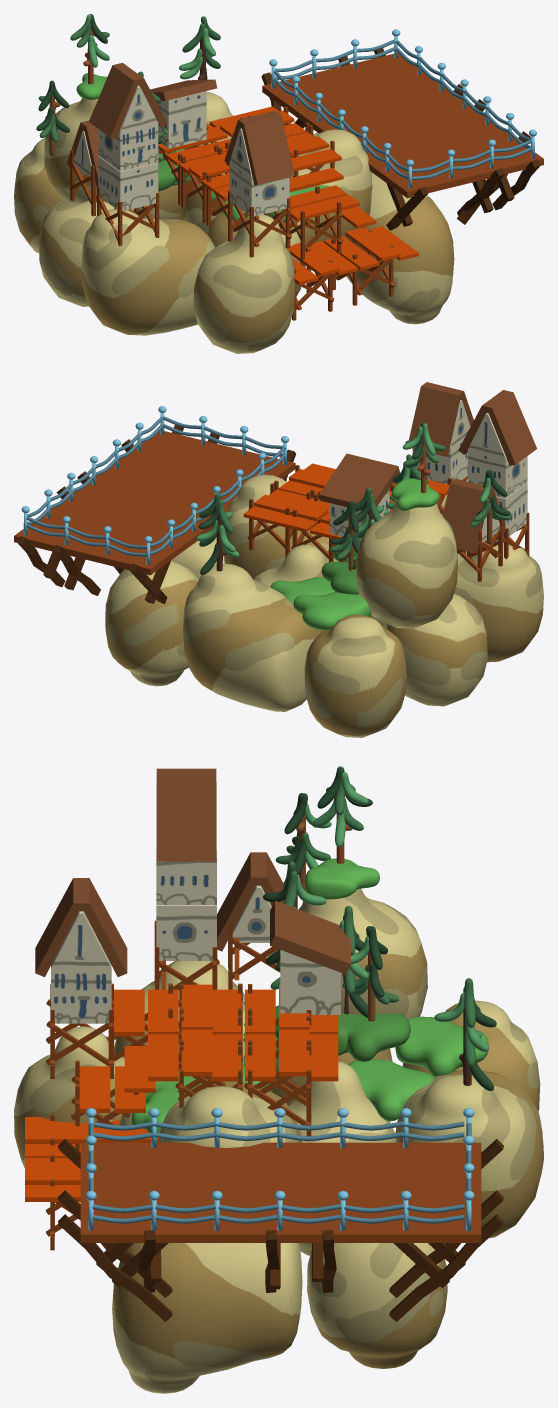
Rendered from BIGISLAND 1.fbx.
3 views of the same model, one above another, from view 1: azimuth 30°, elevation 25°; view 2: azimuth 150°, elevation 25°; view 3: azimuth 270°, elevation 25° (orthographic). The views are drawn at different scales.
Visible parts, largest first — view 1: Cube.100, Cube.082, Cube.023, Cube.104, Cube.074, Cube.025, Cube.037, Cube.075, Cube.101, Cube.092, Cube.083, Cube.086 (+47 smaller); view 2: Cube.100, Cube.076, Cube.083, Cube.075, Cube.103, Cube.074, Cube.082, Cube.025, Cube.101, Cube.066, Cube.092, Cube.037 (+31 smaller); view 3: Cube.100, Cube.104, Cube.103, Cube.076, Cube.101, Cube.083, Cube.092, Cube.023, Cube.025, Cube.080, Cylinder.010, SHIP_ROD.002 (+47 smaller).
Part boxes in pixels (bbox=[...]): Cube.100: bbox=[262, 53, 543, 198]; Cube.082: bbox=[81, 209, 214, 335]; Cube.023: bbox=[193, 214, 295, 353]; Cube.104: bbox=[346, 172, 454, 324]; Cube.074: bbox=[39, 199, 133, 306]; Cube.025: bbox=[291, 129, 372, 243]; Cube.037: bbox=[224, 110, 294, 185]; Cube.075: bbox=[14, 138, 62, 252]; Cube.101: bbox=[261, 48, 540, 230]; Cube.092: bbox=[88, 63, 167, 138]; Cube.083: bbox=[44, 98, 97, 202]; Cube.086: bbox=[98, 156, 158, 211]; Cube.100: bbox=[14, 430, 295, 575]; Cube.076: bbox=[182, 563, 322, 711]; Cube.083: bbox=[356, 501, 457, 628]; Cube.075: bbox=[304, 614, 406, 737]; Cube.103: bbox=[105, 560, 198, 686]; Cube.074: bbox=[386, 593, 487, 706]; Cube.082: bbox=[454, 540, 543, 662]; Cube.025: bbox=[224, 474, 338, 579]; Cube.101: bbox=[17, 425, 295, 604]; Cube.066: bbox=[319, 453, 399, 510]; Cube.092: bbox=[458, 390, 536, 465]; Cube.037: bbox=[408, 382, 473, 456]; Cube.100: bbox=[80, 1142, 481, 1242]; Cube.104: bbox=[112, 1243, 302, 1393]; Cube.103: bbox=[307, 1243, 447, 1368]; Cube.076: bbox=[395, 1069, 543, 1238]; Cube.101: bbox=[58, 1139, 503, 1321]; Cube.083: bbox=[299, 889, 427, 1052]; Cube.092: bbox=[156, 768, 216, 861]; Cube.023: bbox=[14, 1026, 124, 1202]; Cube.025: bbox=[158, 1081, 302, 1147]; Cube.080: bbox=[288, 1061, 396, 1255]; Cylinder.010: bbox=[93, 1121, 464, 1141]; SHIP_ROD.002: bbox=[85, 1108, 474, 1230].
Size of the model in its own units: 4570 by 3191 by 3447.
